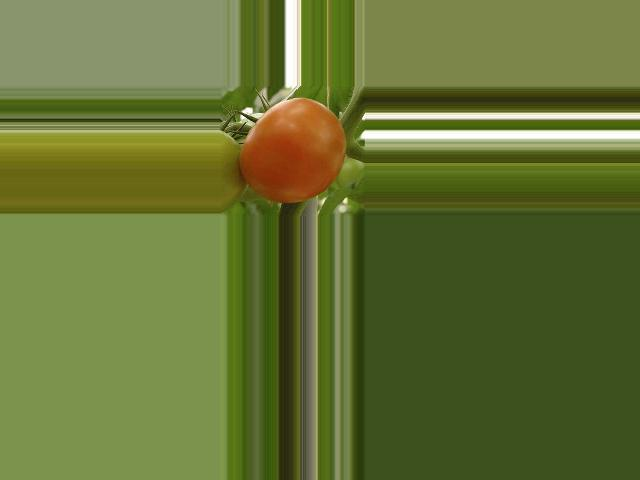tomato: (239, 97, 345, 203)
